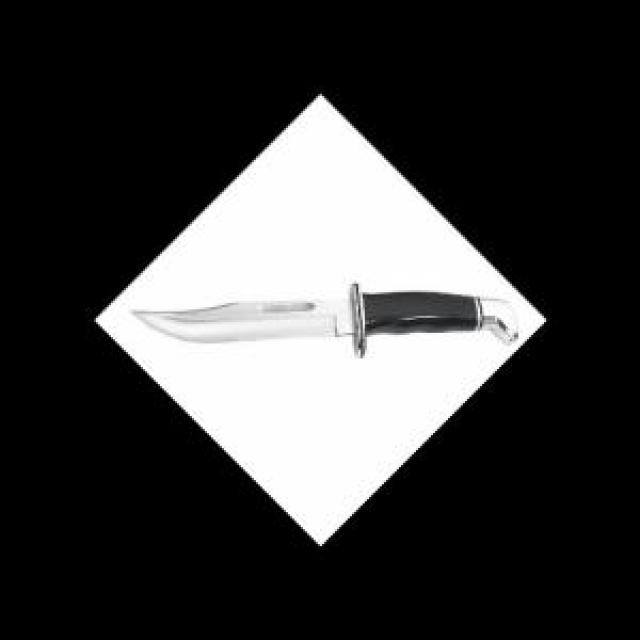knife: (128, 282, 514, 348)
